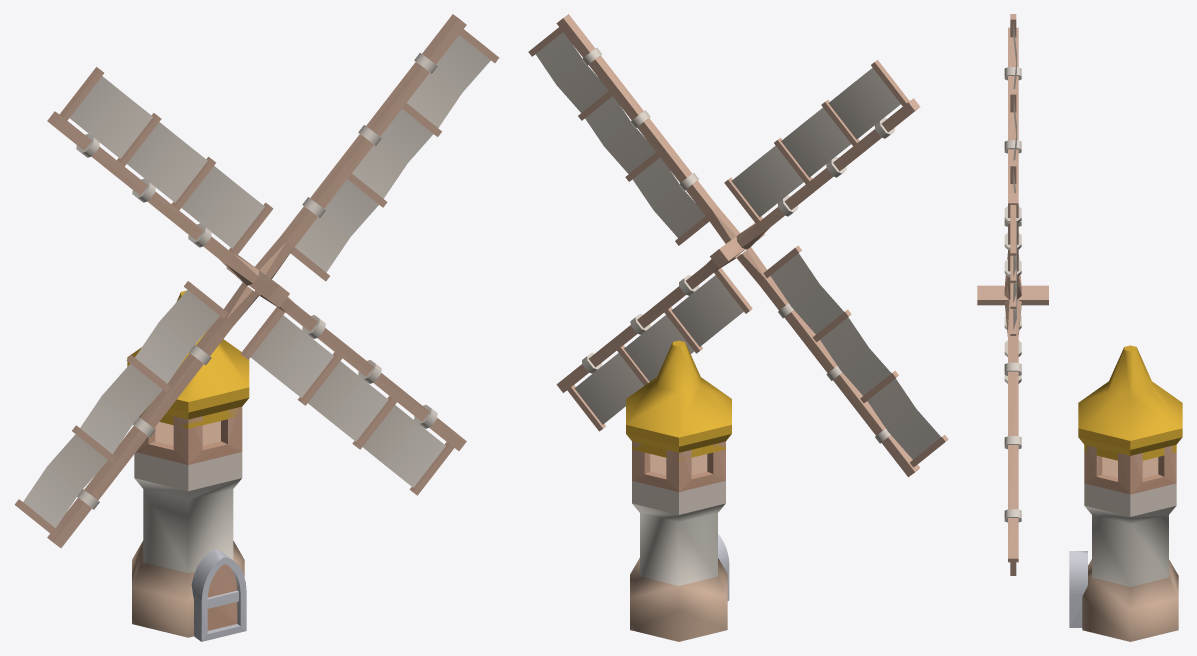
The model's file is mill_l1.glb.
3 renders of one model, left to right at view 1: azimuth 30°, elevation 25°; view 2: azimuth 150°, elevation 25°; view 3: azimuth 270°, elevation 25°, orthographic. The views are drawn at different scales.
Parts seen in each view (by area): view 1: Sails, mill_l1; view 2: Sails, mill_l1; view 3: mill_l1, Sails.
Part boxes in pixels (x1=…): Sails: x1=14, y1=14, x2=499, y2=548; mill_l1: x1=127, y1=290, x2=249, y2=641; Sails: x1=528, y1=14, x2=948, y2=477; mill_l1: x1=626, y1=340, x2=731, y2=641; mill_l1: x1=1069, y1=345, x2=1182, y2=641; Sails: x1=977, y1=14, x2=1048, y2=575.
Size of the model in its own units: 5.84 by 7.32 by 2.53.
